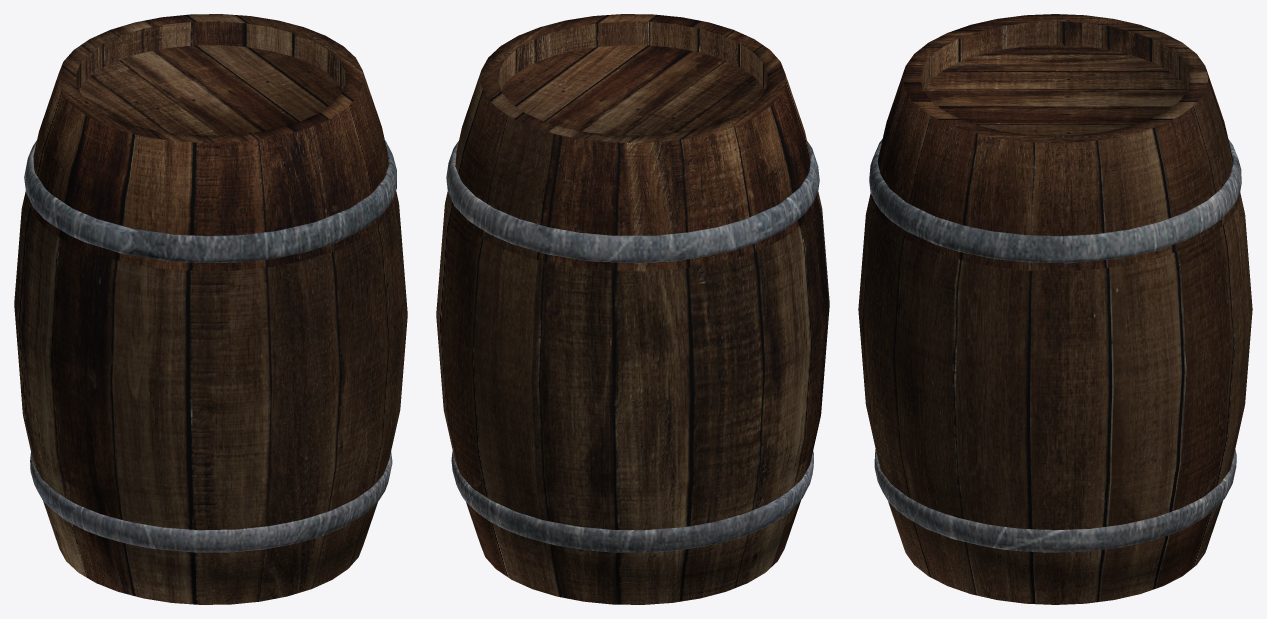
Rendered from barrel.glb.
3 views of the same model, side by side, from view 1: azimuth 30°, elevation 25°; view 2: azimuth 150°, elevation 25°; view 3: azimuth 270°, elevation 25° (orthographic).
Parts seen in each view (by area): view 1: barrel, iron ring; view 2: barrel, iron ring; view 3: barrel, iron ring.
Boxes of the visible parts, left/top/right/bottom form: barrel: left=14, top=14, right=407, bottom=604; iron ring: left=24, top=140, right=396, bottom=552; barrel: left=436, top=14, right=829, bottom=604; iron ring: left=446, top=141, right=819, bottom=552; barrel: left=858, top=14, right=1252, bottom=604; iron ring: left=869, top=139, right=1241, bottom=552.
Size of the model in its own units: 0.8618 by 1.11 by 0.8618.
2 materials, 2 textured.
